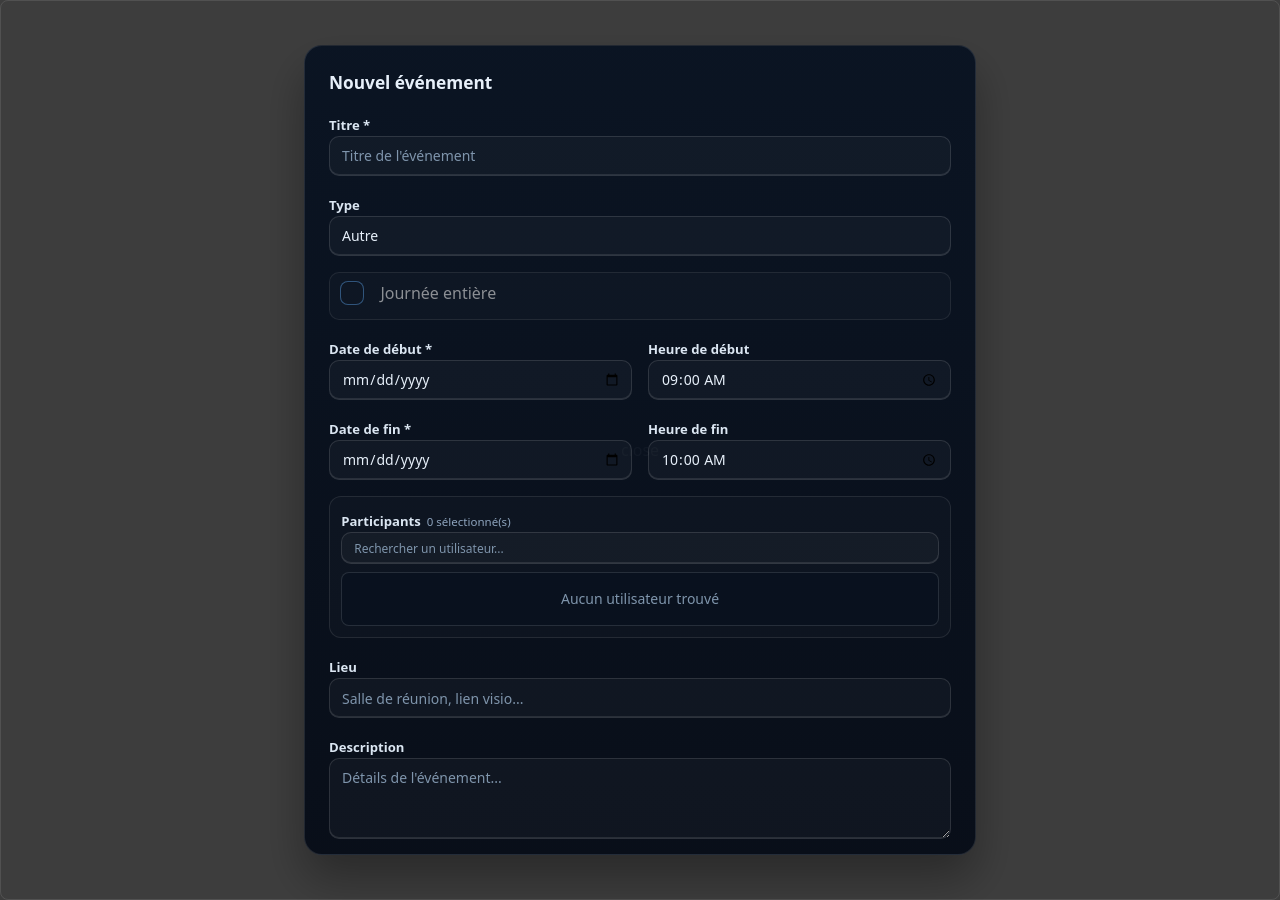
Test case: CalendarEventModal — create mode › enables submit when title is filled
Type "Sprint Review" into the field with placeholder "Titre de l'événement" at (640, 156), box [329,136,951,176]
(page scrolled)
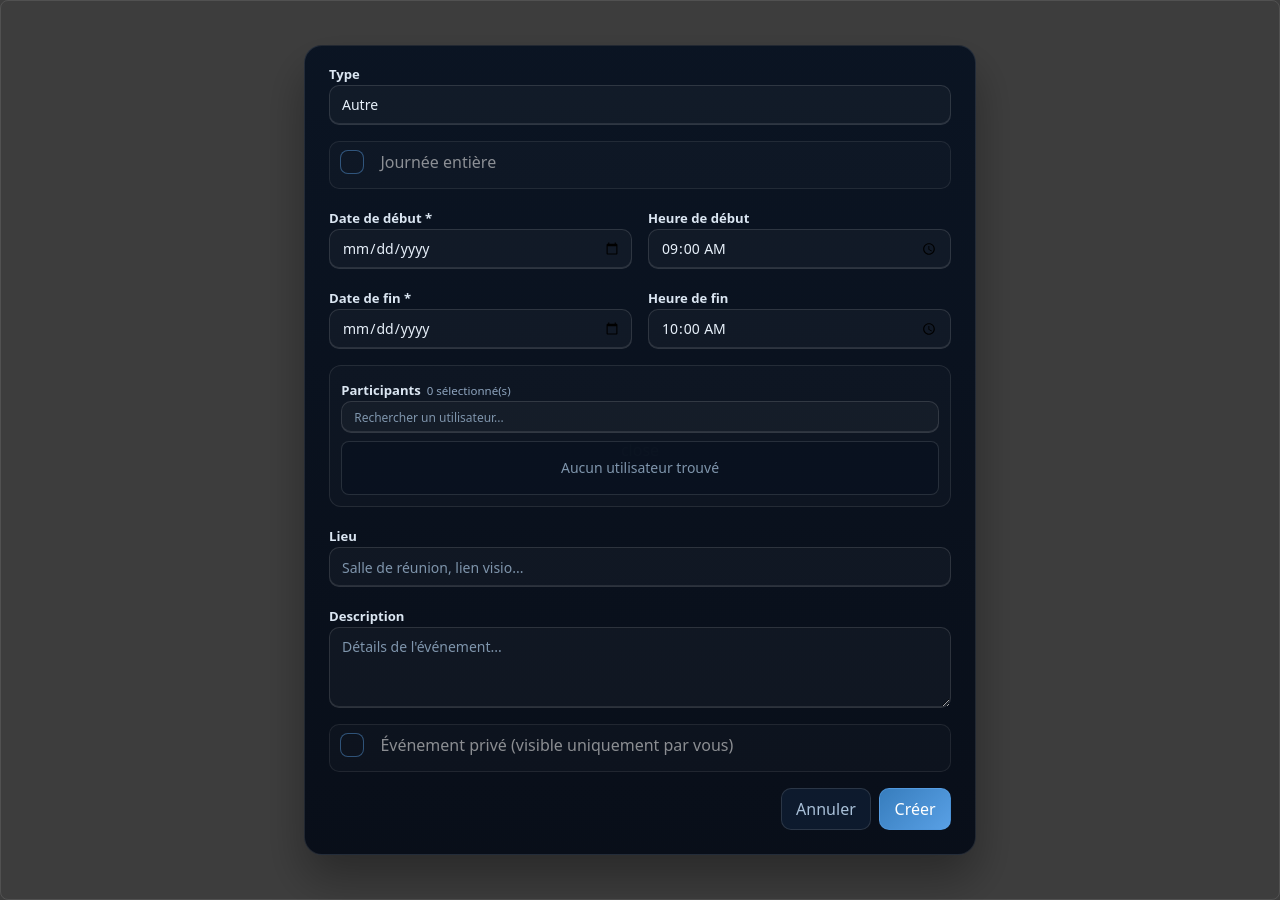
Now the submit button is enabled, box [879,788,951,830]
